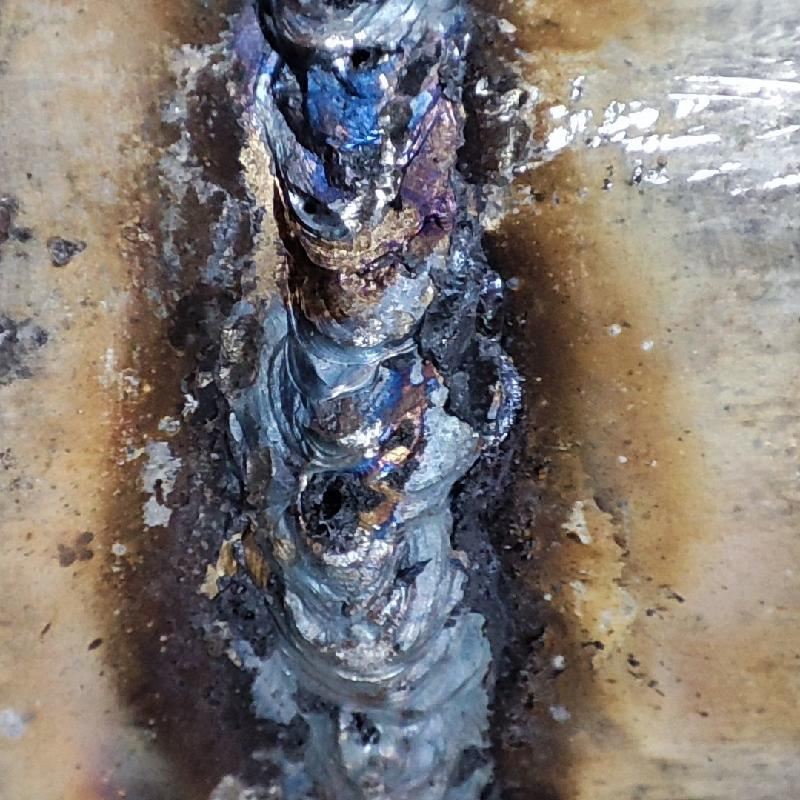Surface_pores: (295, 467, 373, 543), (289, 187, 341, 229), (341, 38, 390, 81), (373, 186, 423, 225)
